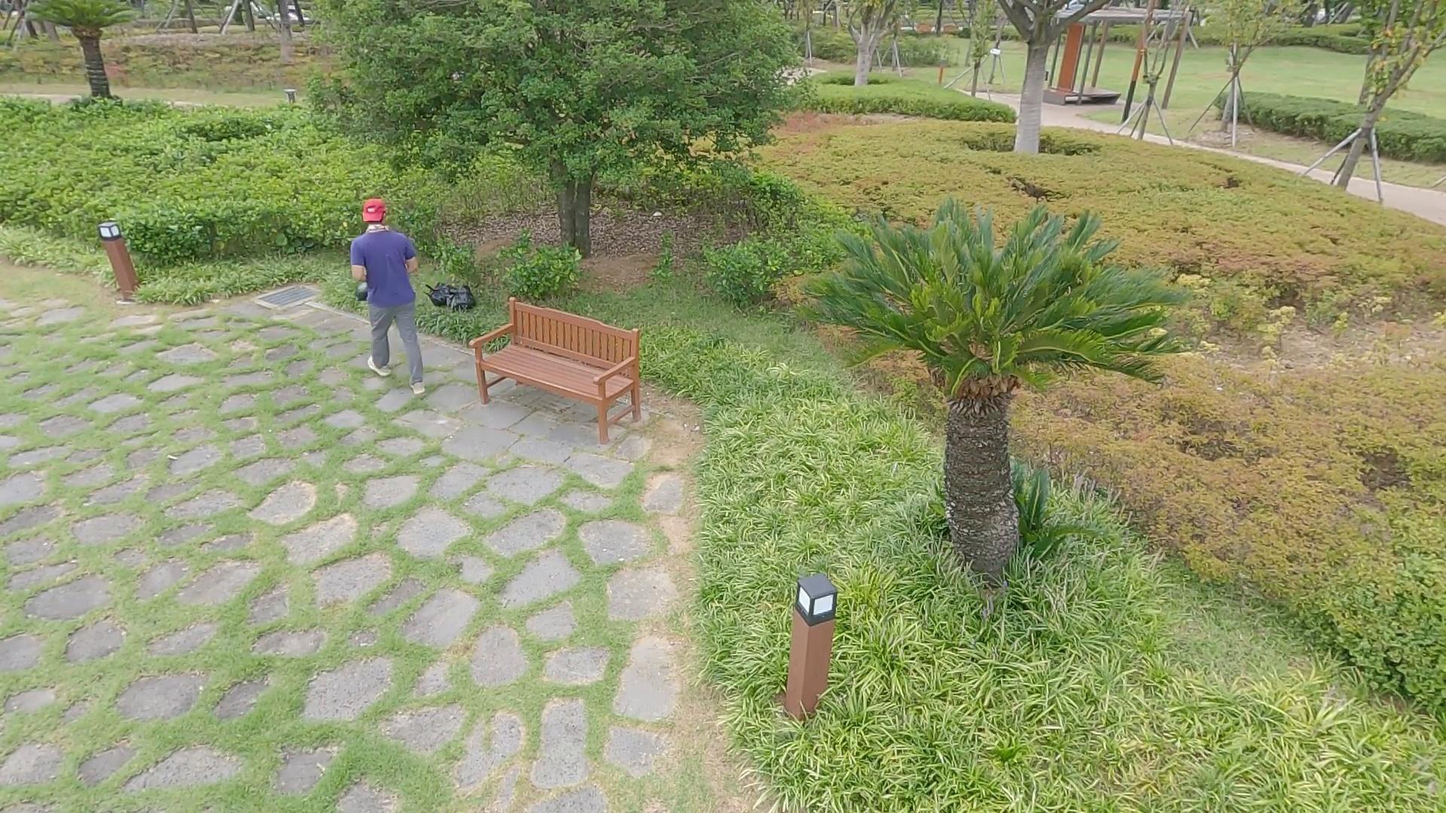person: (342, 196, 434, 402)
trash: (446, 276, 480, 313), (425, 282, 449, 315), (351, 281, 372, 305)
